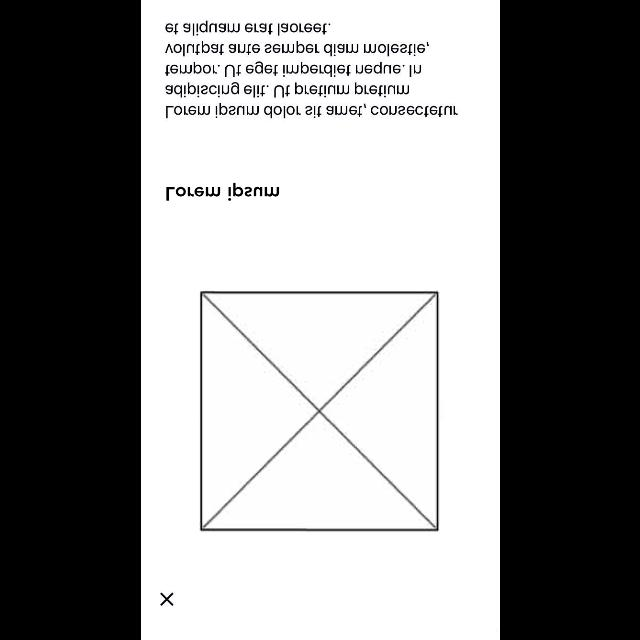icon: (159, 592, 173, 606)
image: (199, 291, 439, 531)
text: (164, 20, 458, 118), (165, 182, 278, 202)
